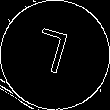L_S: (33, 26, 77, 84)
